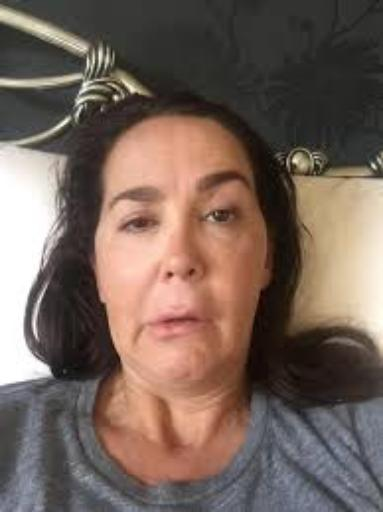left_eye: (202, 206, 242, 229)
left_lip_corner: (197, 312, 216, 334)
right_eye: (119, 215, 161, 238)
right_lip_corner: (140, 316, 158, 336)
